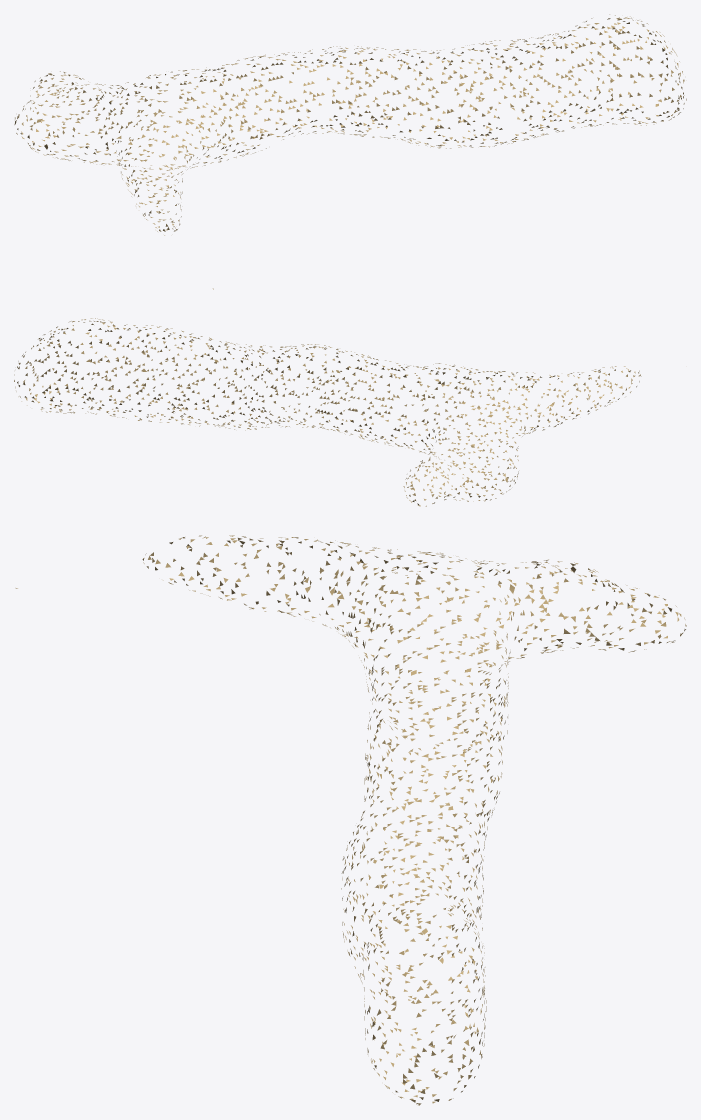
Rendered from morph_007.glb.
The picture shows the model from 3 angles, top to bottom: view 1: azimuth 30°, elevation 25°; view 2: azimuth 150°, elevation 25°; view 3: azimuth 270°, elevation 25°; orthographic projection. The views are drawn at different scales.
Size of the model in its own units: 119 by 29.13 by 81.75.
